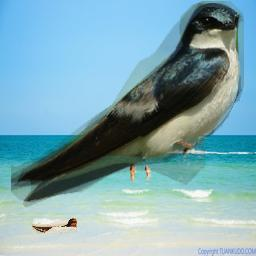Swallow: (11, 1, 244, 207), (32, 218, 77, 234)
